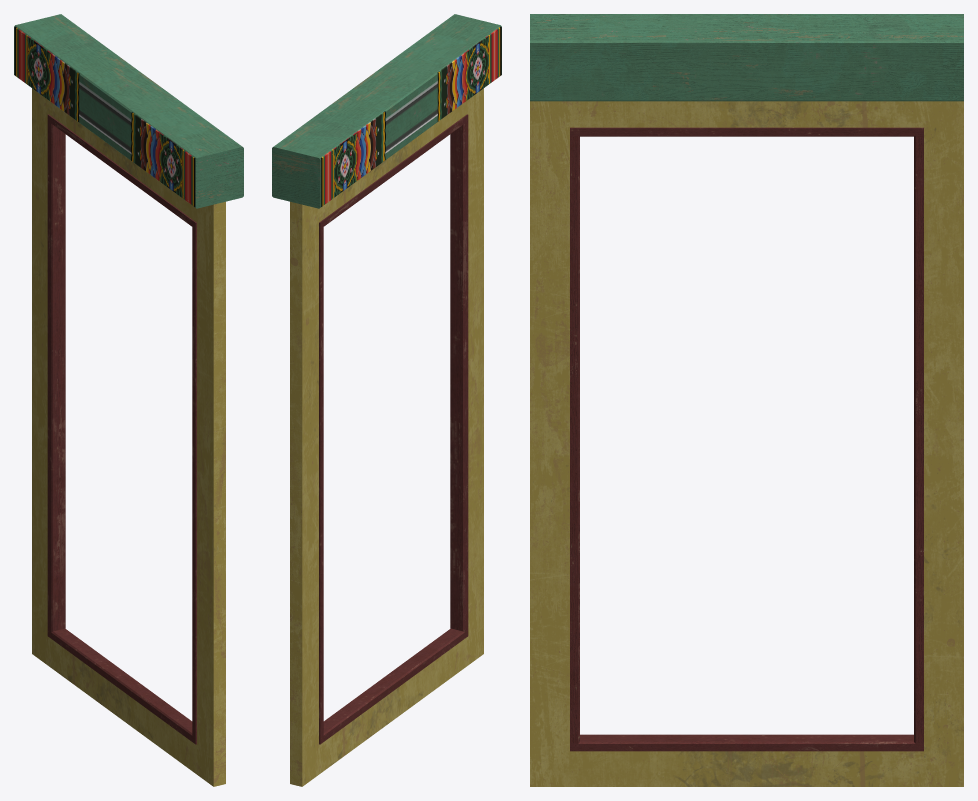
Rendered from SM_Wall01b.fbx.
3 views of the same model, side by side, from view 1: azimuth 30°, elevation 25°; view 2: azimuth 150°, elevation 25°; view 3: azimuth 270°, elevation 25° (orthographic). The views are drawn at different scales.
Parts seen in each view (by area): view 1: SM_Wall01b; view 2: SM_Wall01b; view 3: SM_Wall01b.
Part boxes in pixels (x1=…): SM_Wall01b: x1=14, y1=14, x2=243, y2=786; SM_Wall01b: x1=272, y1=14, x2=501, y2=786; SM_Wall01b: x1=530, y1=14, x2=963, y2=786.
Bounding box in the file's own units: 20 × 250 × 130.
